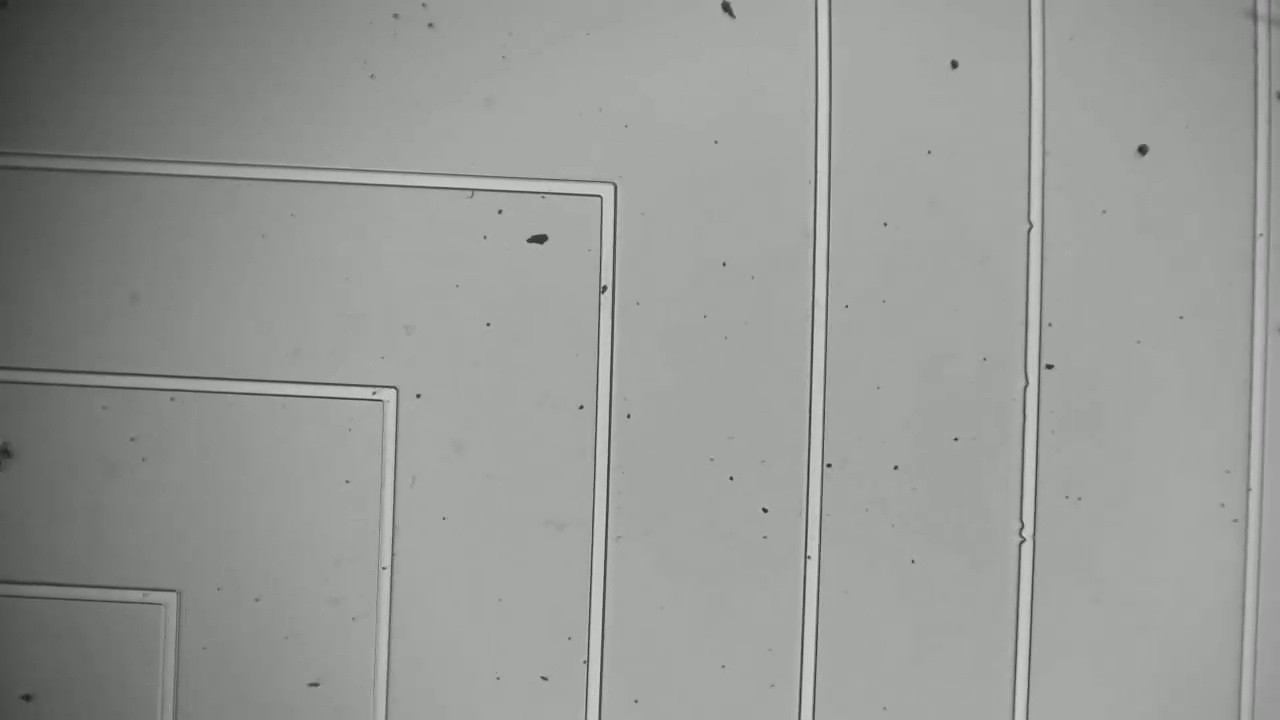edge_bite: (1014, 360, 1051, 394), (1019, 208, 1053, 239), (1012, 508, 1042, 539)
stains_enbedded: (592, 278, 624, 304)
